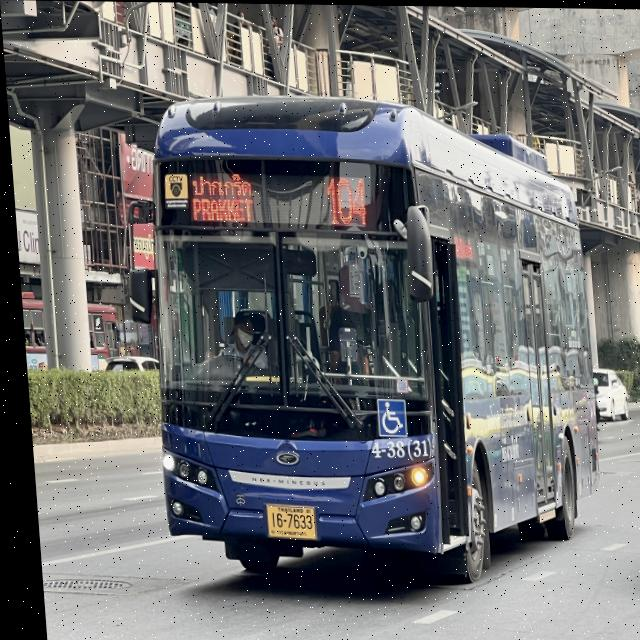Bus Line Number: (315, 167, 375, 230)
Bus Side Number: (361, 436, 430, 464)
Destination Sign: (181, 169, 262, 229)
TSB-Bus: (131, 79, 607, 612)
